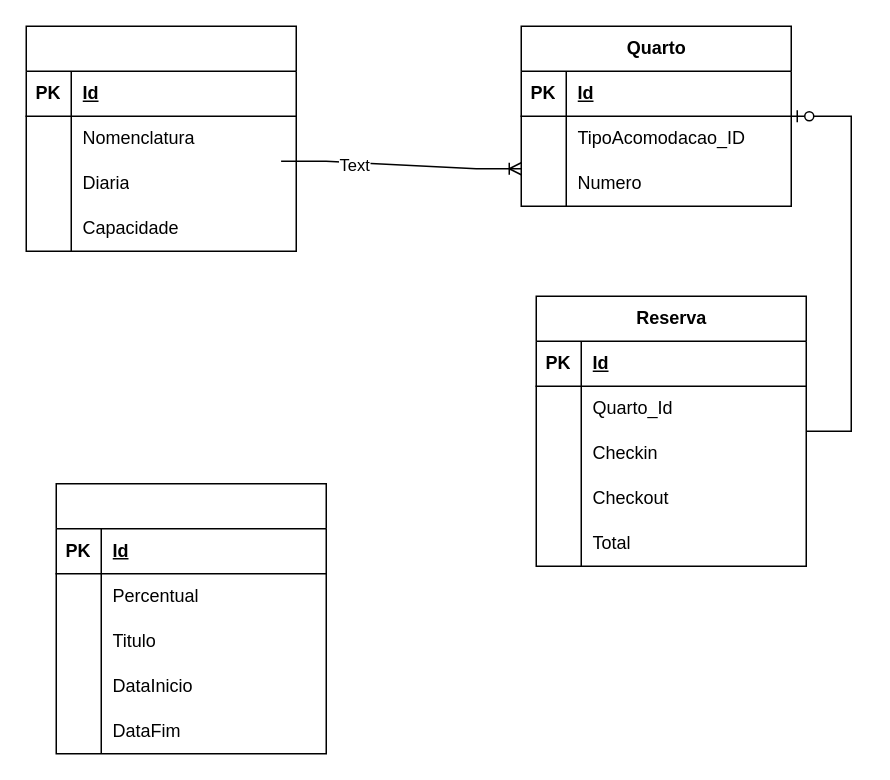
Image size: 890x780. Some labels were removed from this diagram. The shapes that lost their labels are listed below. From the top down, each one's box as (x1, y1, x2, y2) in pixels, then its label:
(25, 25, 296, 251): TipoAcomodacao
(55, 482, 326, 754): Modificador
